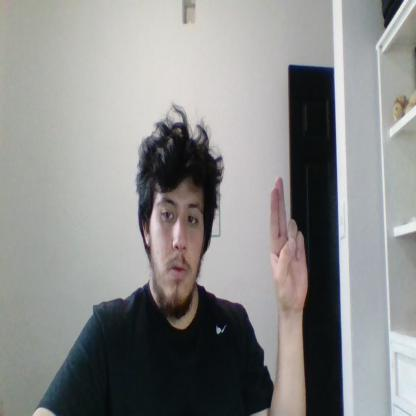U: (272, 176, 308, 308)
